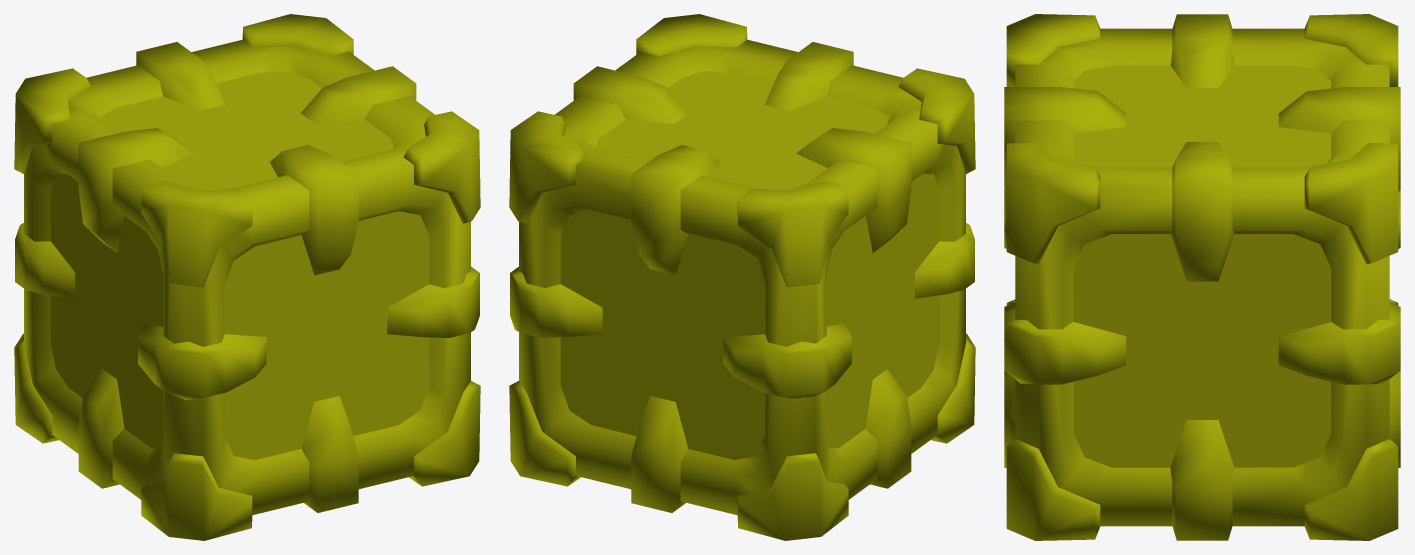
Rendered from SM_Crates_04.fbx.
3 views of the same model, side by side, from view 1: azimuth 30°, elevation 25°; view 2: azimuth 150°, elevation 25°; view 3: azimuth 270°, elevation 25° (orthographic). The views are drawn at different scales.
Parts seen in each view (by area): view 1: Crates_04; view 2: Crates_04; view 3: Crates_04.
Part boxes in pixels (x1,y1,x2,y2): Crates_04: [14, 14, 480, 540]; Crates_04: [509, 14, 975, 540]; Crates_04: [1004, 14, 1400, 540].
Bounding box in the file's own units: 81.97 × 82.55 × 81.97.
